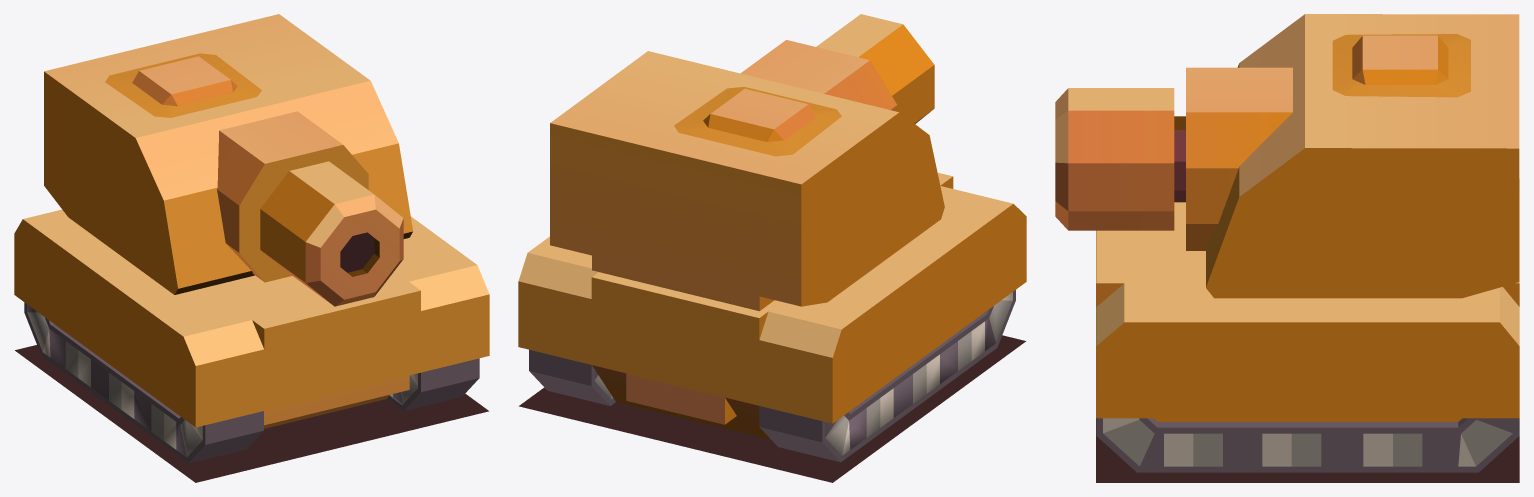
File: TankMesh.AmberBlaze.glb
3 views of the same model, side by side, from view 1: azimuth 30°, elevation 25°; view 2: azimuth 150°, elevation 25°; view 3: azimuth 270°, elevation 25° (orthographic). The views are drawn at different scales.
Parts seen in each view (by area): view 1: TankMesh.AmberBlaze; view 2: TankMesh.AmberBlaze; view 3: TankMesh.AmberBlaze.
Boxes of the visible parts, left/top/right/bottom form: TankMesh.AmberBlaze: left=14, top=14, right=489, bottom=482; TankMesh.AmberBlaze: left=518, top=14, right=1026, bottom=482; TankMesh.AmberBlaze: left=1055, top=14, right=1519, bottom=482.
Size of the model in its own units: 1.5 by 1.38 by 1.76.
1 material, 1 textured.
